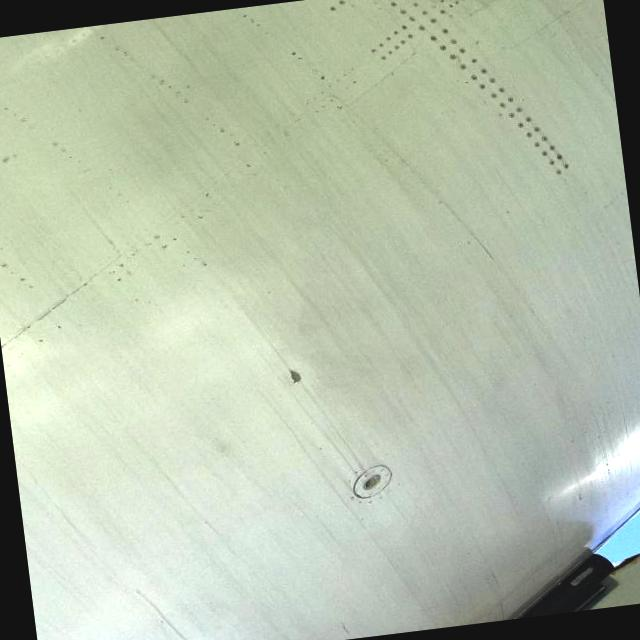crack: (267, 358, 322, 393), (474, 232, 504, 264)
